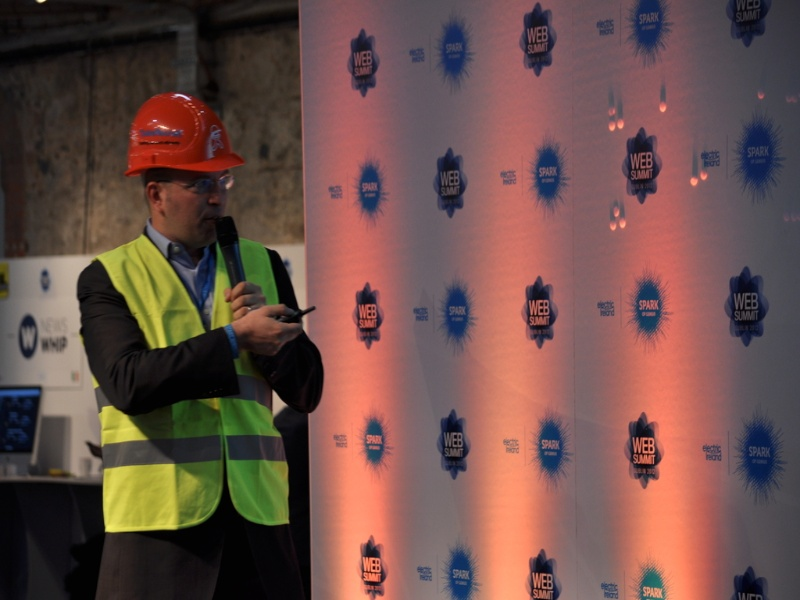Baret: (127, 92, 245, 173)
